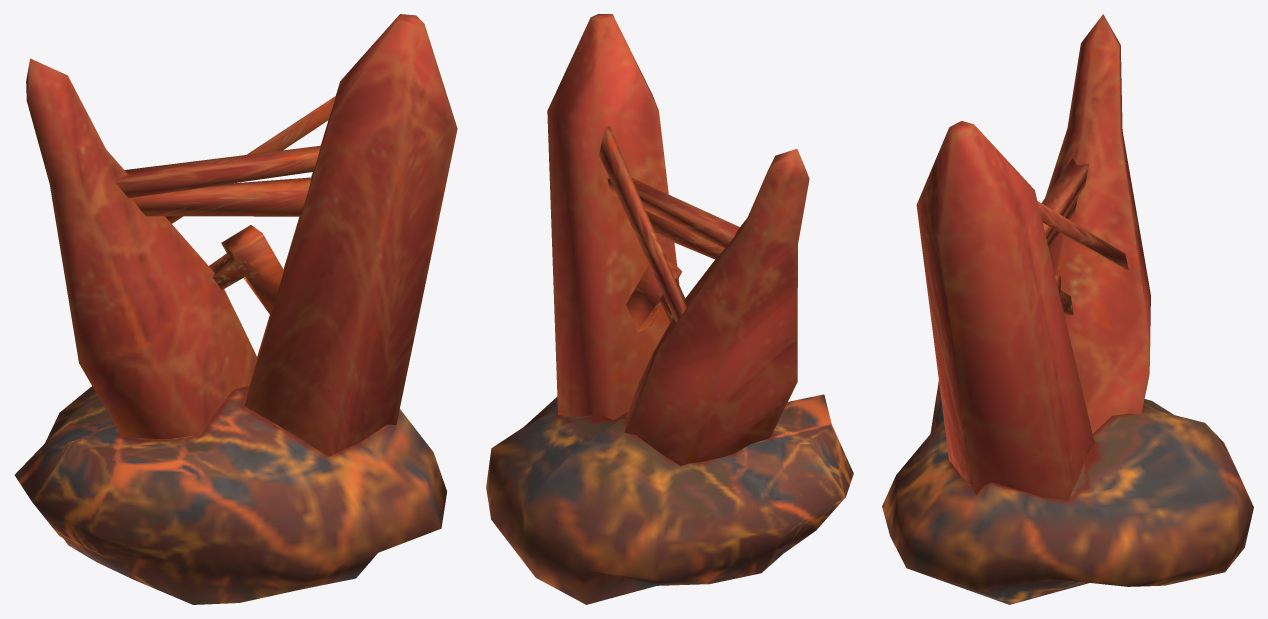
The model's file is Zincite.fbx.
The picture shows the model from 3 angles, left to right: view 1: azimuth 30°, elevation 25°; view 2: azimuth 150°, elevation 25°; view 3: azimuth 270°, elevation 25°; orthographic projection. The views are drawn at different scales.
Visible parts, largest first — view 1: Zincite; view 2: Zincite; view 3: Zincite.
Part boxes in pixels (x1=…): Zincite: x1=14, y1=14, x2=457, y2=604; Zincite: x1=486, y1=14, x2=853, y2=604; Zincite: x1=882, y1=14, x2=1253, y2=604.
Bounding box in the file's own units: 64.13 × 91.71 × 61.38.
Materials: 1 (1 with a texture image).
